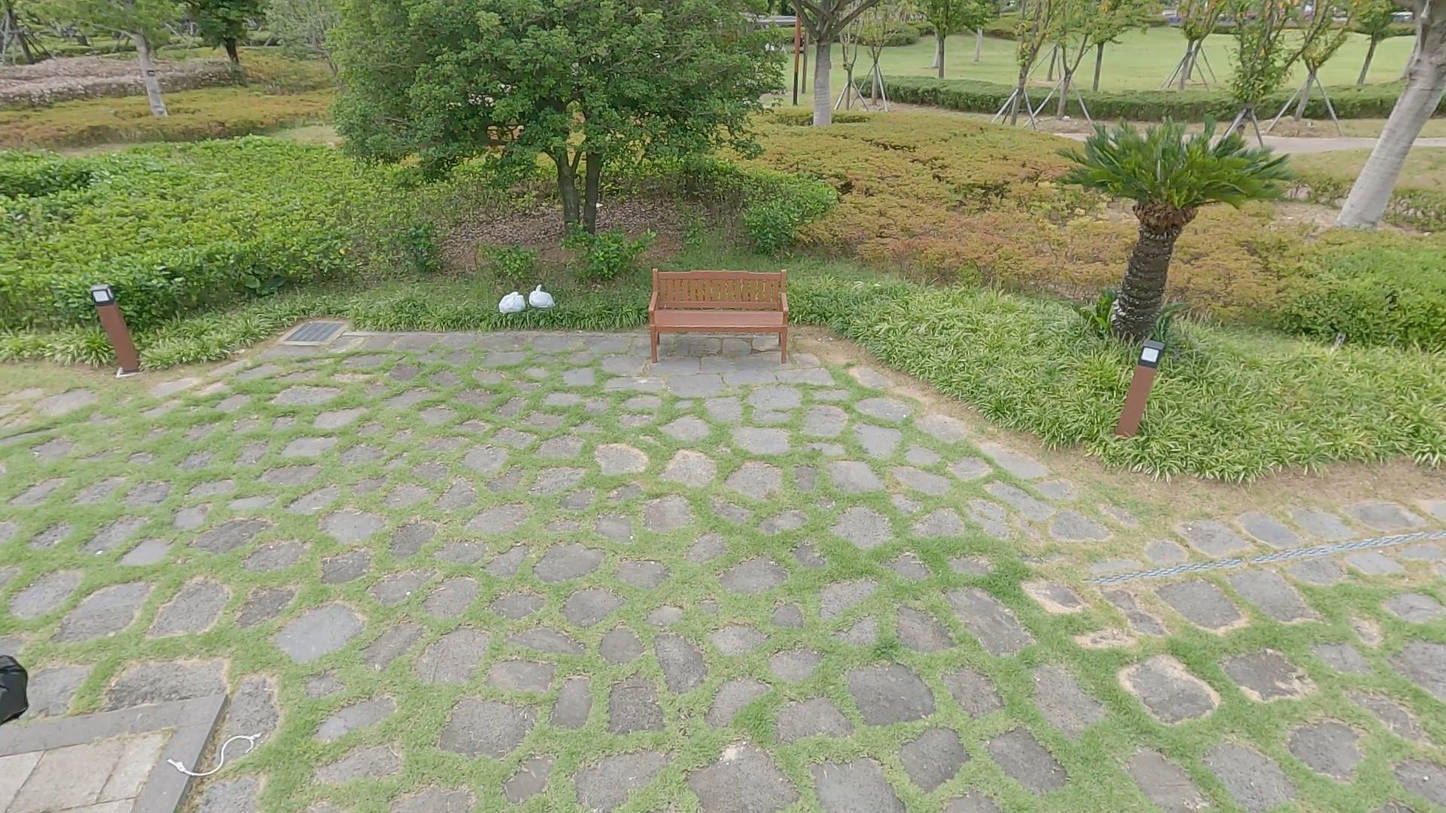trash: (496, 291, 527, 317), (528, 281, 553, 310)
